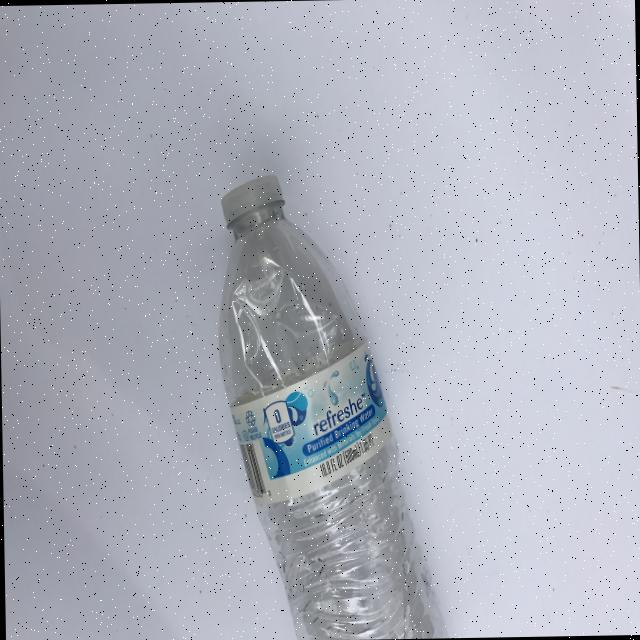plastic: (213, 170, 448, 640)
